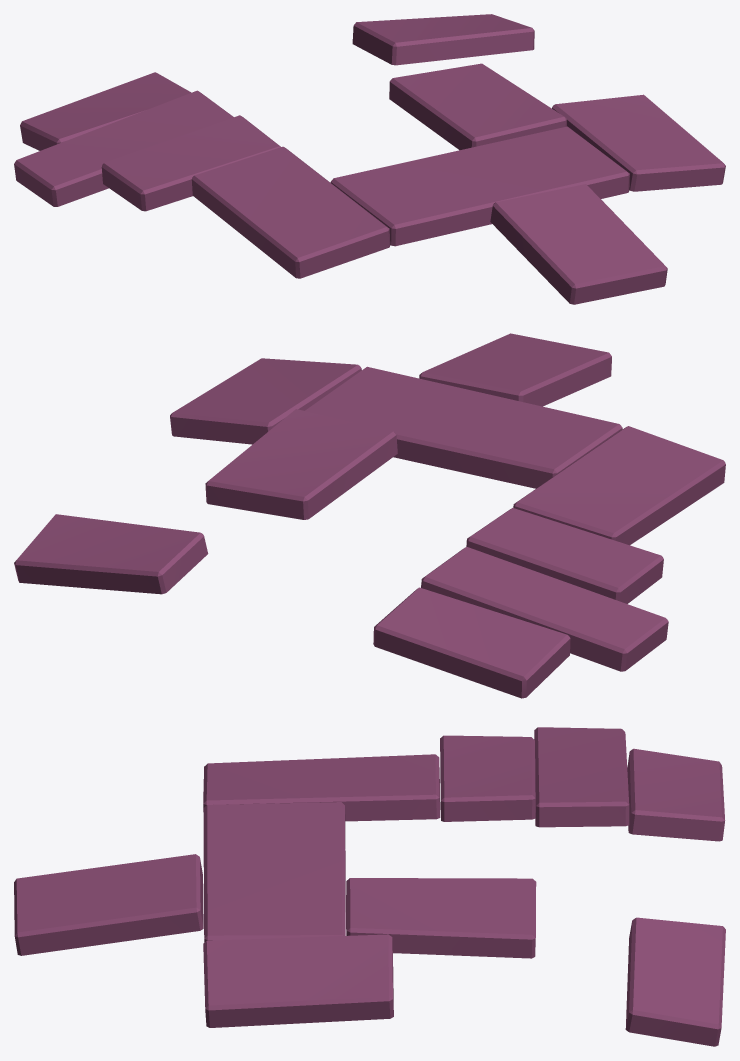
File: SM_floorTiles04_low.fbx
3 views of the same model, one above another, from view 1: azimuth 30°, elevation 25°; view 2: azimuth 150°, elevation 25°; view 3: azimuth 270°, elevation 25° (orthographic). The views are drawn at different scales.
Visible parts, largest first — view 1: Plane.032; view 2: Plane.032; view 3: Plane.032.
Part boxes in pixels (x1,y1,x2,y2): Plane.032: (14,14,725,304); Plane.032: (14,333,725,698); Plane.032: (14,727,725,1046).
Size of the model in its own units: 548 by 62.39 by 575.
